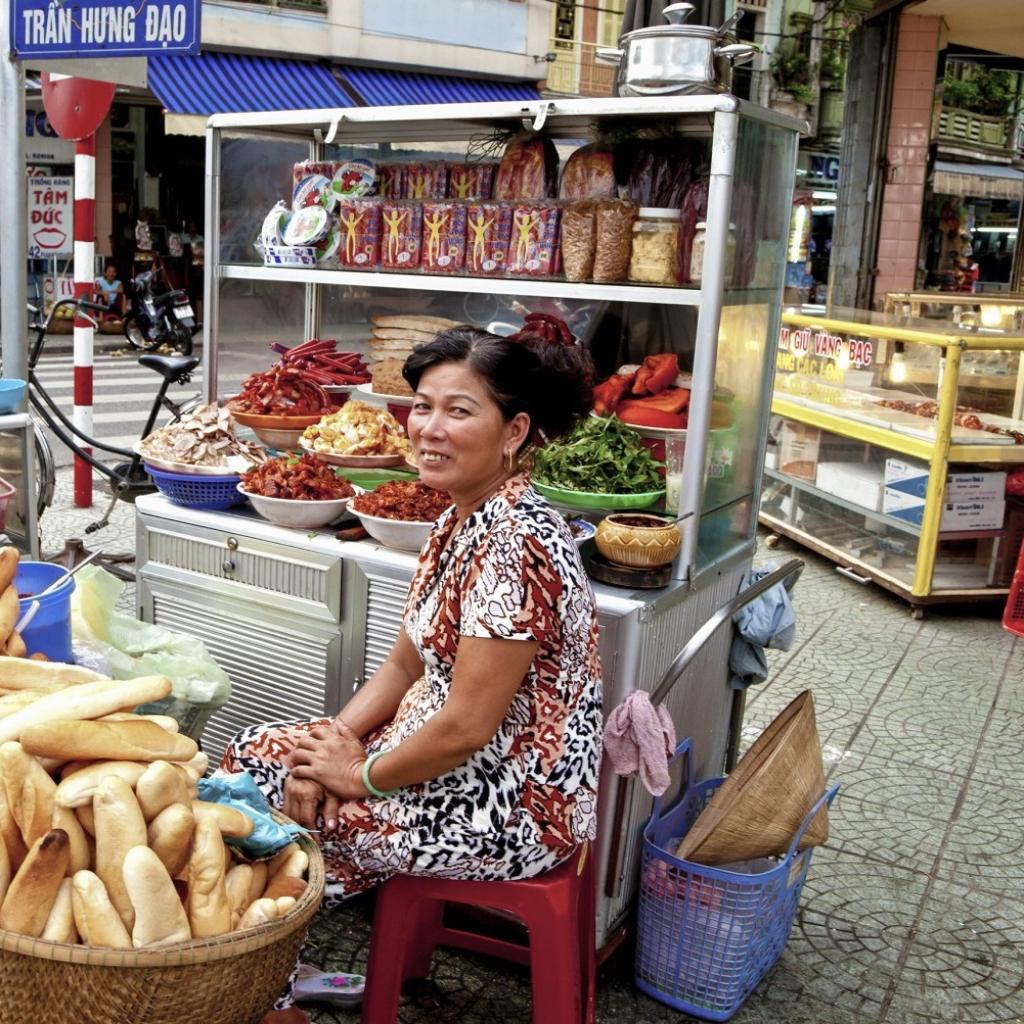text: (22, 0, 74, 47), (81, 4, 138, 46), (143, 4, 188, 51), (846, 336, 876, 371), (805, 153, 842, 181), (814, 328, 843, 361), (818, 360, 848, 387), (32, 186, 70, 207), (30, 207, 64, 226), (795, 354, 820, 379), (793, 326, 812, 356), (774, 351, 797, 373), (787, 375, 805, 399), (779, 326, 791, 350), (28, 244, 43, 259), (52, 178, 72, 188), (30, 178, 52, 186)
